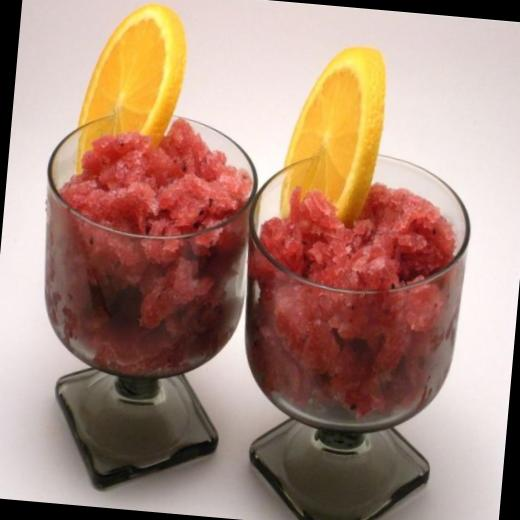Grape: (73, 0, 191, 183), (277, 41, 390, 230)
